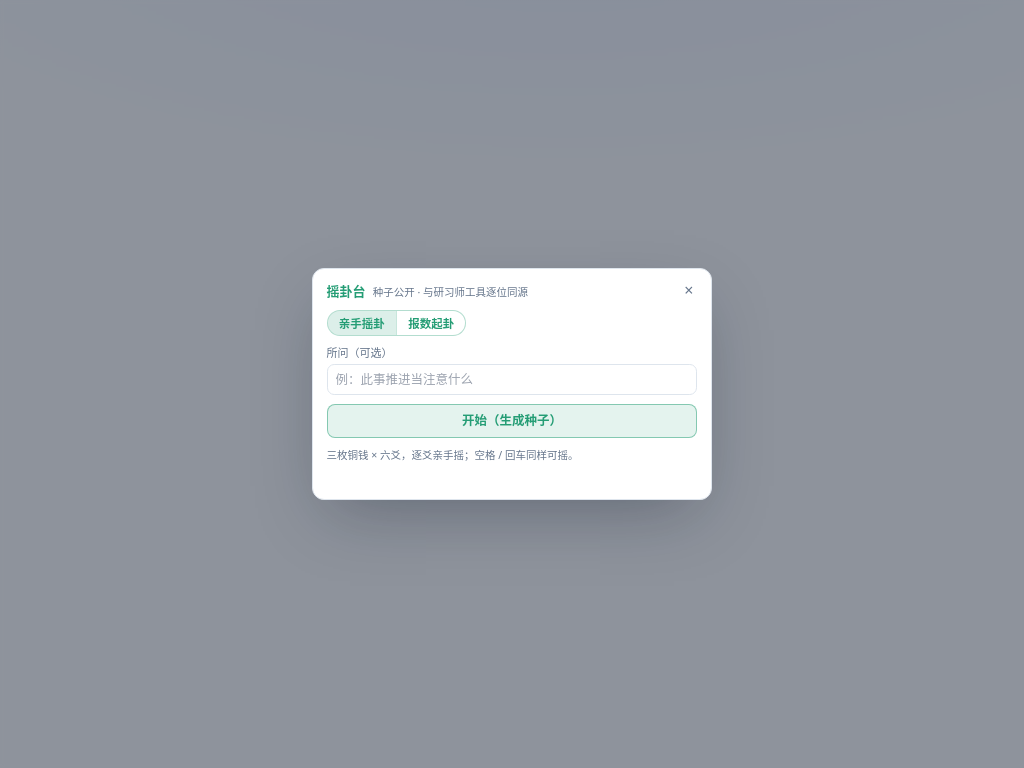
Scenario: TsToss 摇卦台 › reduced-motion：点击直出（无 600ms 翻转等待）
Click the button "开始（生成种子）".
click(512, 421)  # box [327, 404, 697, 438]
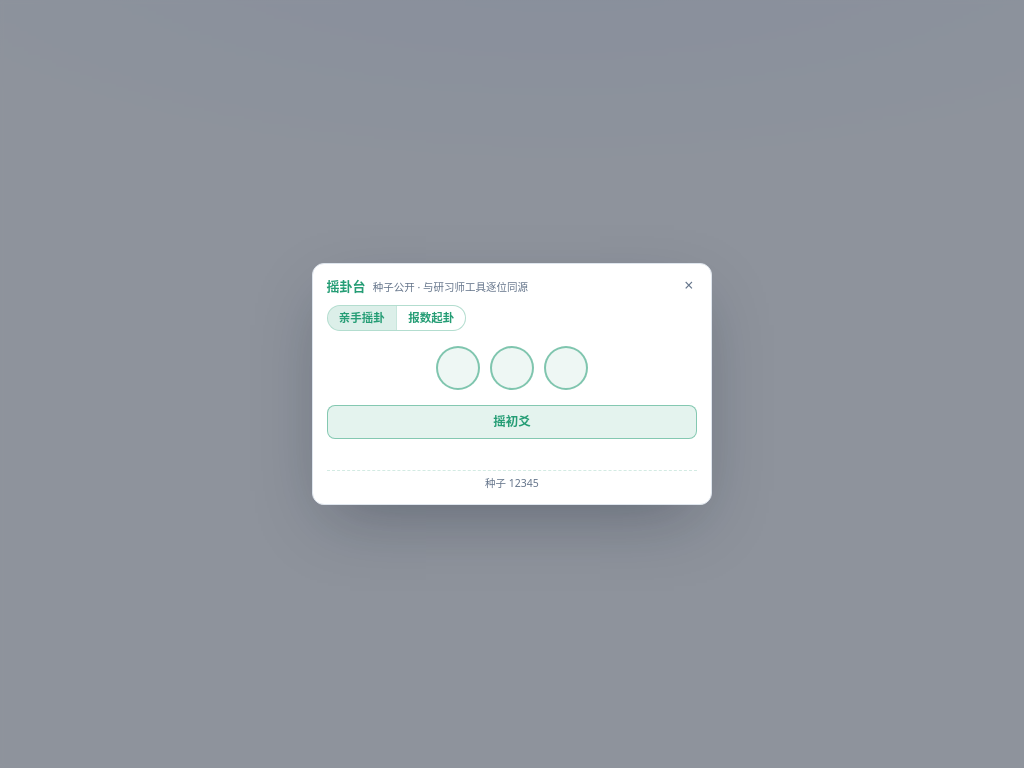
Click the button "摇初爻".
click(512, 422)  # box [327, 405, 697, 439]
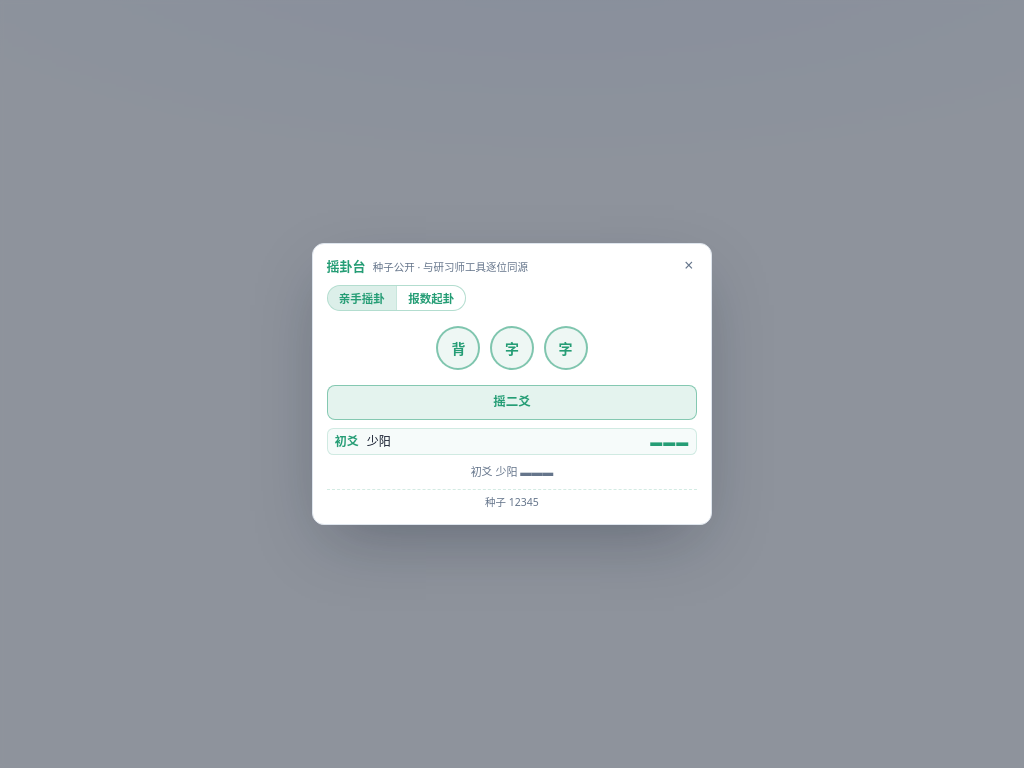
Expected: the number of list items is 1, [327, 428, 697, 455]
